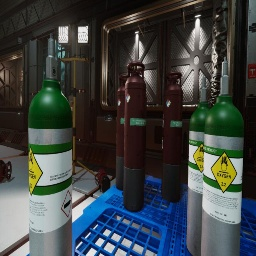0: (28, 33, 72, 256), (201, 56, 244, 256), (186, 74, 210, 256)
EmergencyPhone ,: (28, 107, 29, 117)
FireAlarm ,: (248, 63, 256, 78)
FireExtinguisher ]: (95, 168, 110, 193), (0, 133, 5, 143)
NitrogenTank ,: (123, 62, 146, 212), (161, 72, 183, 202), (116, 75, 131, 191), (0, 160, 12, 182), (144, 95, 147, 180)
SafetySwitchPanel ,: (69, 95, 77, 122)
